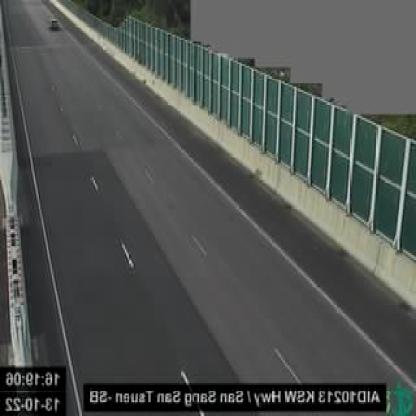Car: (47, 18, 61, 30)
